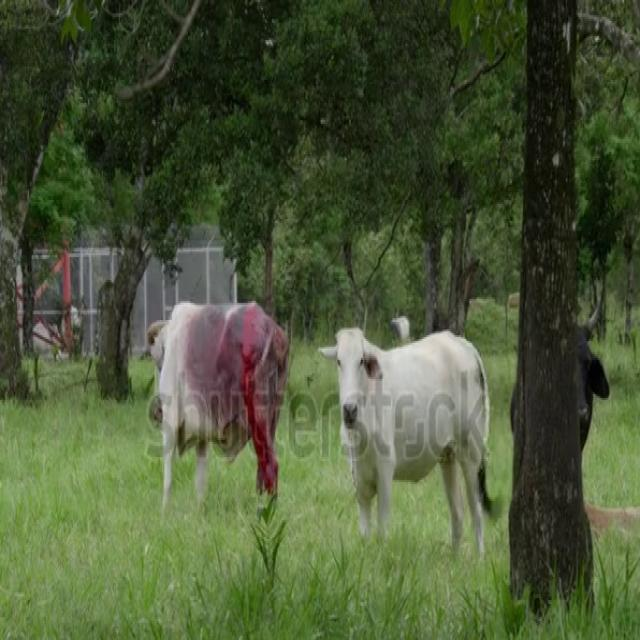injured-animals: (141, 295, 292, 518)
normal_animals: (316, 318, 495, 562)
